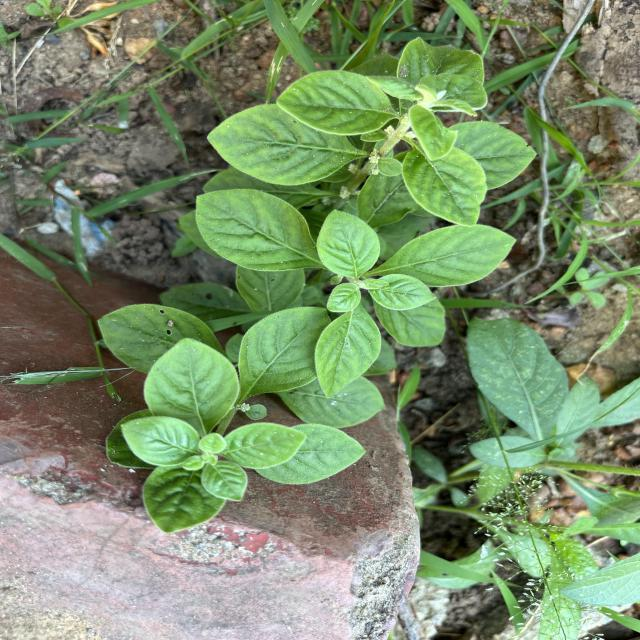Aerva lanata: (192, 186, 320, 274), (374, 221, 520, 289), (235, 304, 333, 398), (249, 421, 369, 487), (312, 300, 384, 402), (314, 208, 382, 280)
